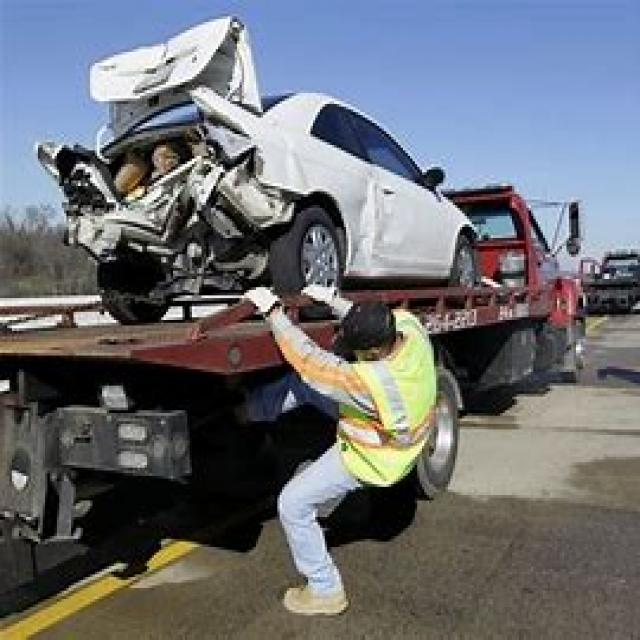Accident: (48, 25, 439, 312)
